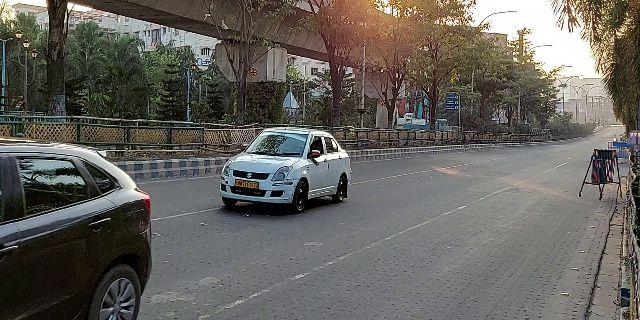Car: (1, 144, 155, 319), (215, 120, 353, 216)
